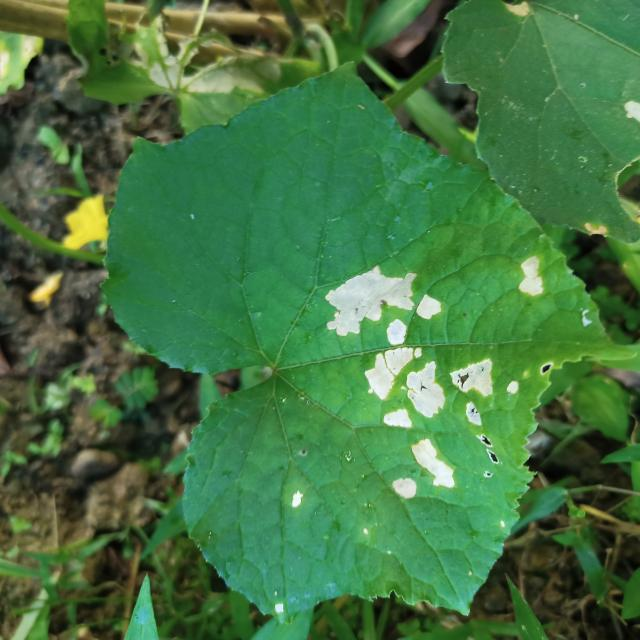disease_cucumber: (318, 261, 504, 510), (512, 252, 552, 309), (278, 484, 310, 509)
